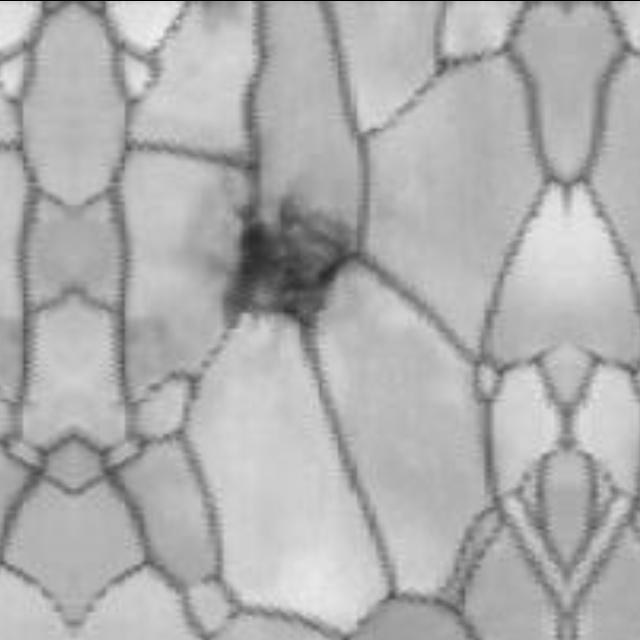good_void: (216, 200, 361, 346)
